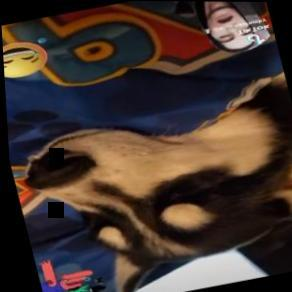nasal_discharge: (15, 150, 45, 177)
